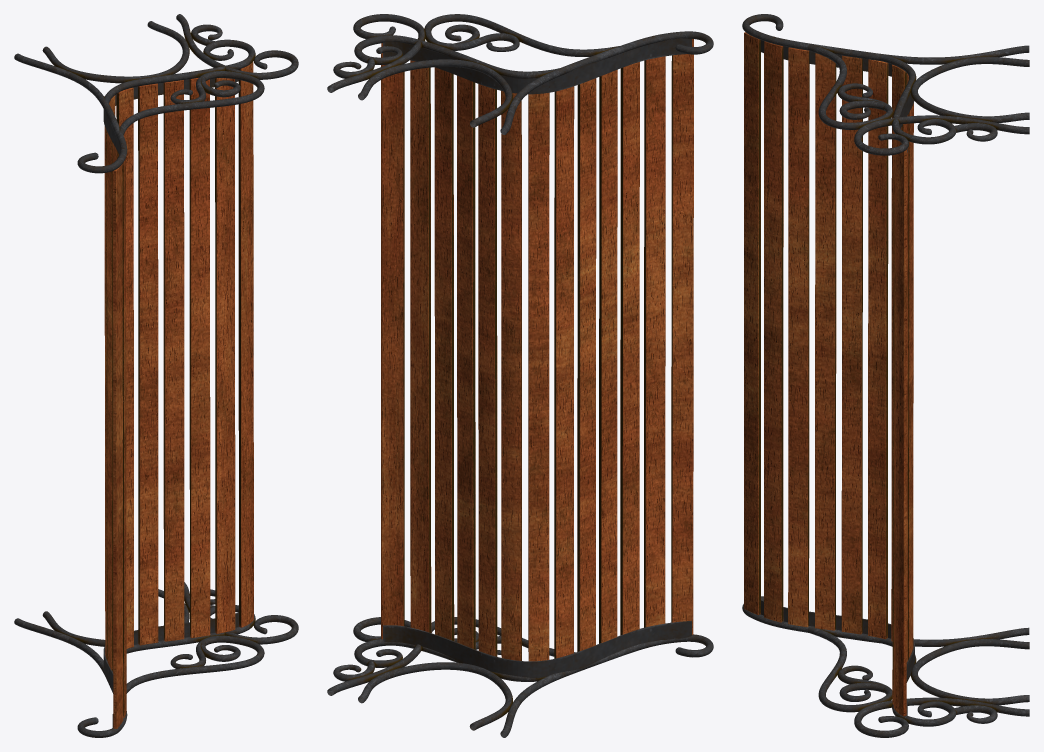
Rendered from bench_model_free_unreal.obj.
The picture shows the model from 3 angles, left to right: view 1: azimuth 30°, elevation 25°; view 2: azimuth 150°, elevation 25°; view 3: azimuth 270°, elevation 25°; orthographic projection. The views are drawn at different scales.
Parts seen in each view (by area): view 1: Object_0; view 2: Object_0; view 3: Object_0.
Part boxes in pixels (bbox=[...]): Object_0: bbox=[14, 14, 298, 737]; Object_0: bbox=[327, 14, 713, 737]; Object_0: bbox=[742, 14, 1029, 737].
Size of the model in its own units: 151 by 301 by 133.
Materials: 1 (1 with a texture image).
